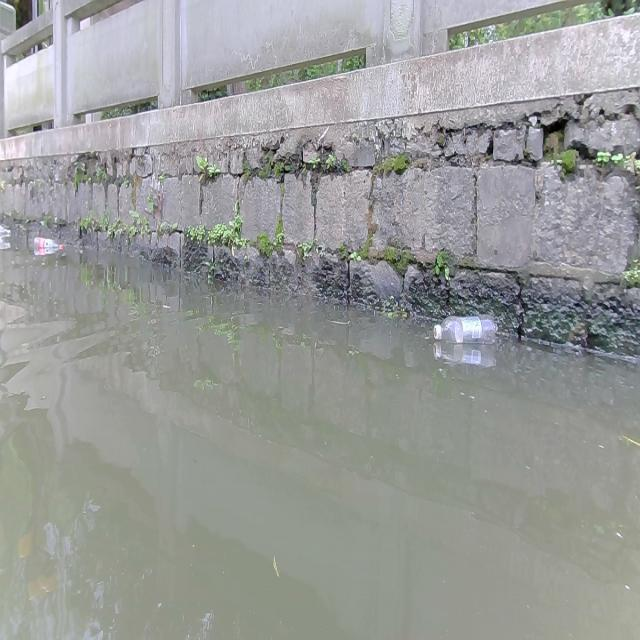bottle: (433, 312, 497, 341), (33, 236, 63, 248), (0, 223, 11, 233)
